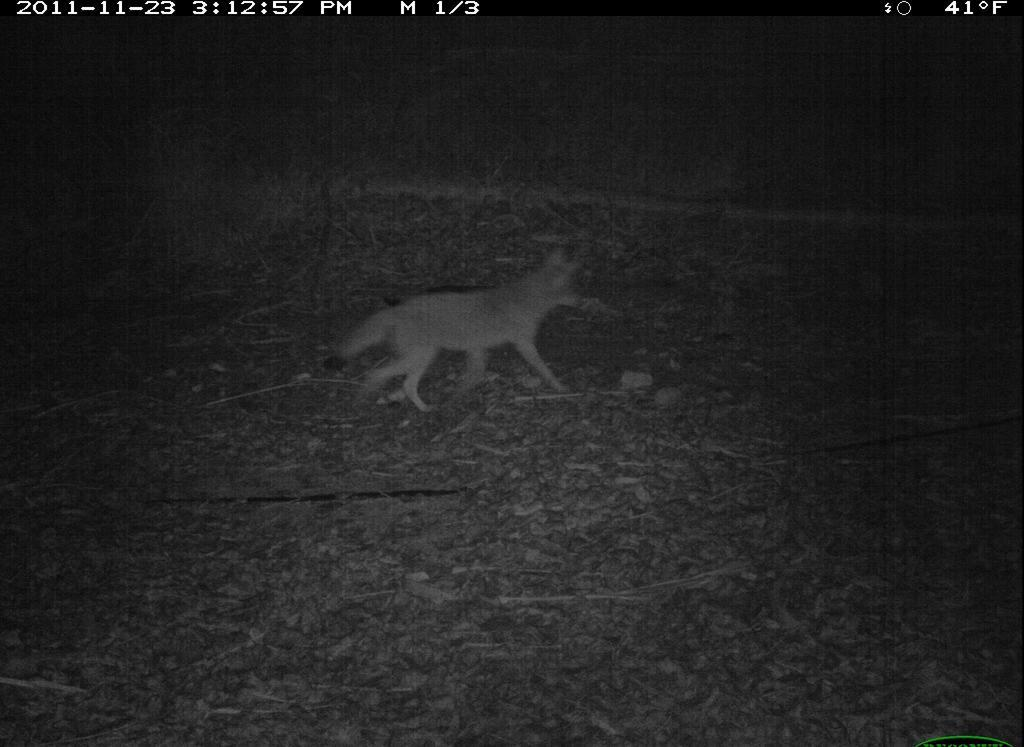coyote: (306, 236, 624, 422)
